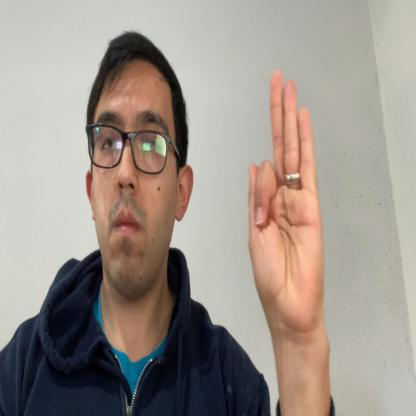F: (248, 70, 324, 333)
